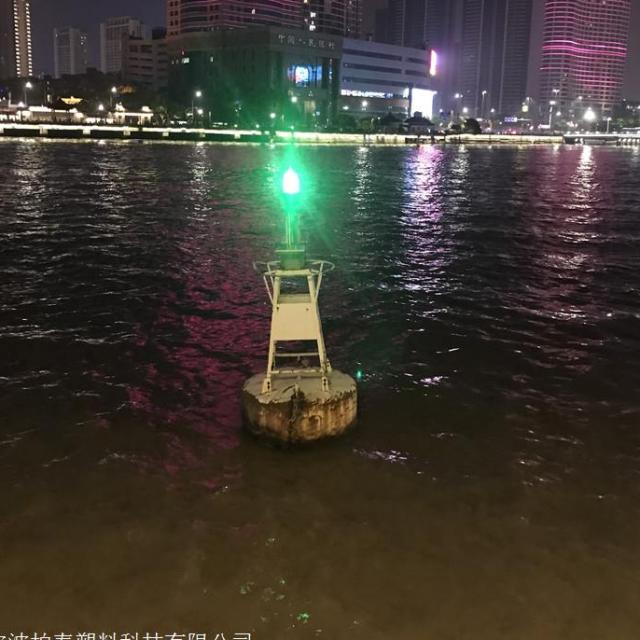buoy: (248, 137, 364, 439)
